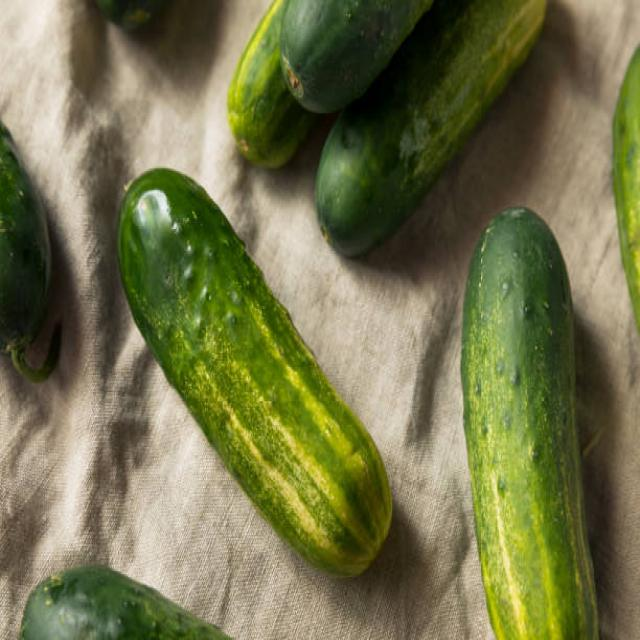cucumber: (114, 166, 394, 581), (459, 204, 600, 640)
